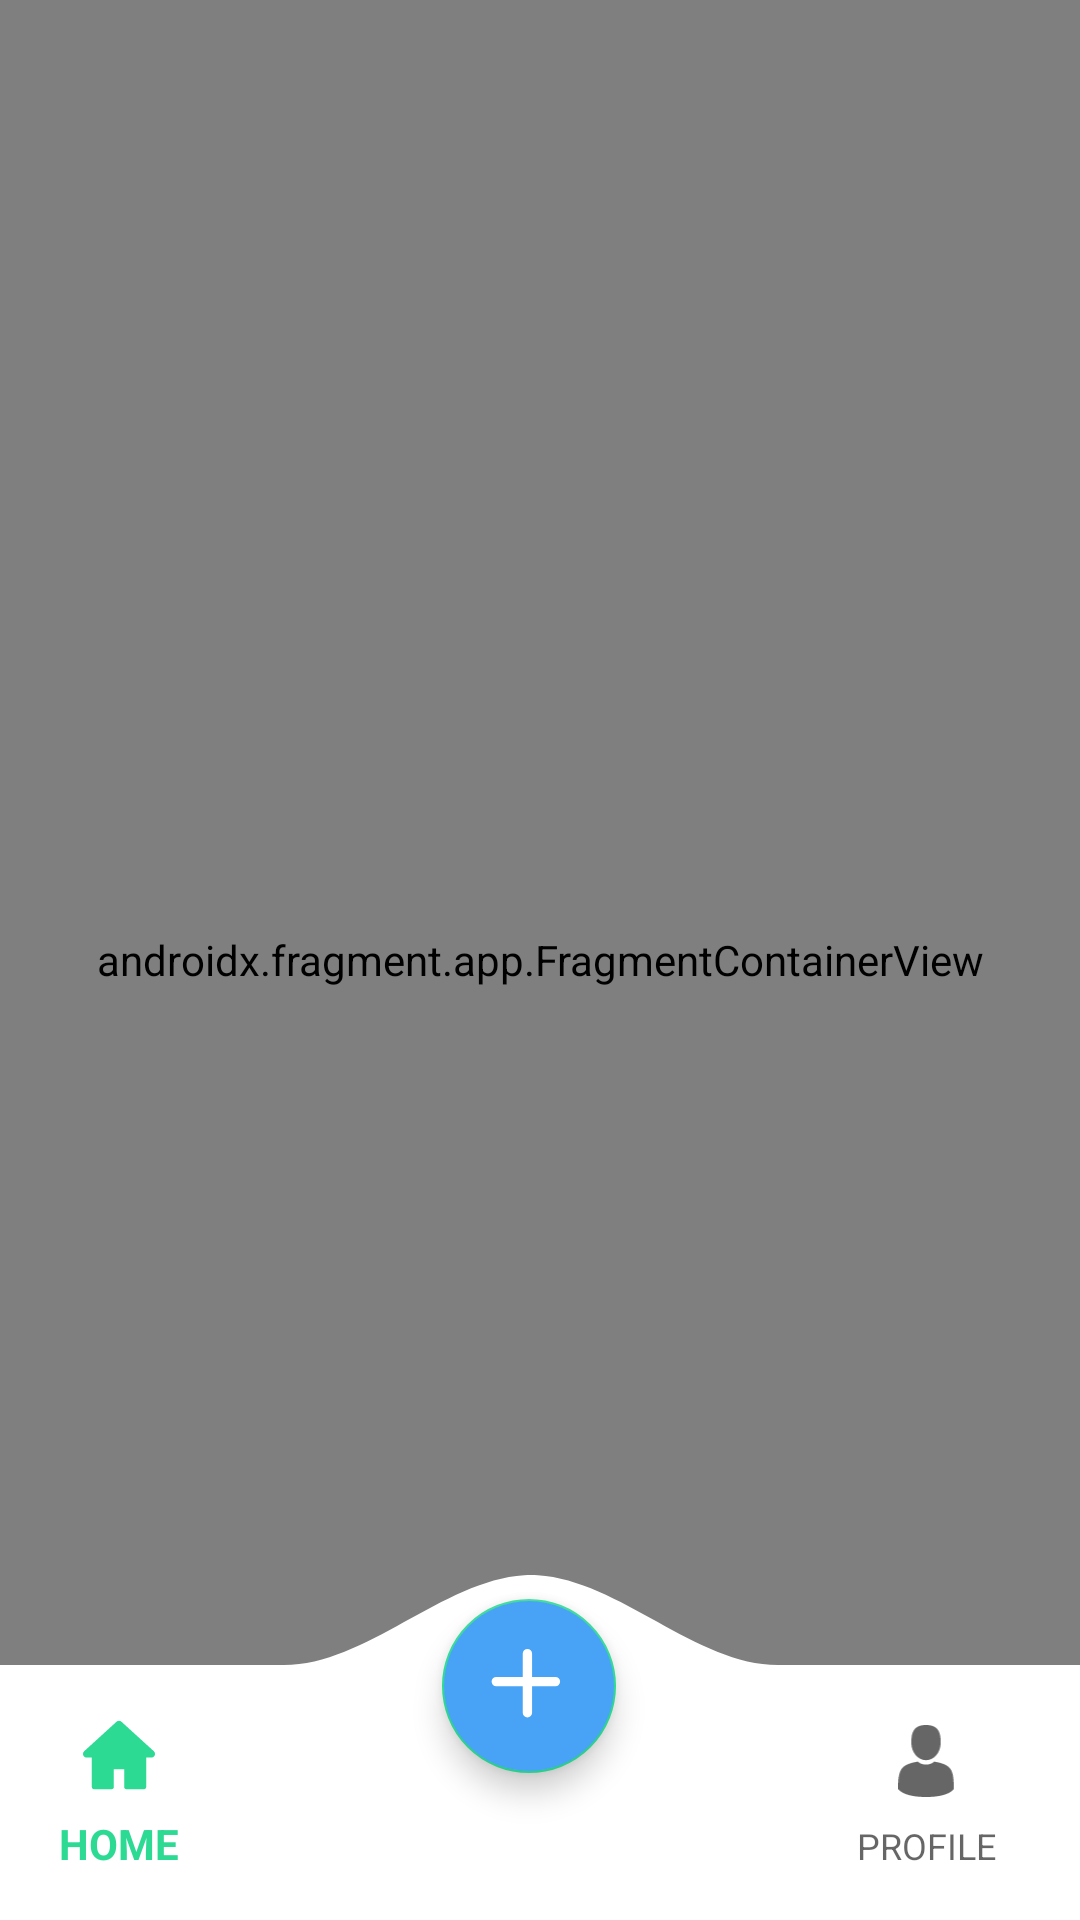

Named icons in this screenshot (1080 × 1920) and their bounding boxes, (x1, y1, x2, y2):
plus: (442, 1599, 616, 1773)
